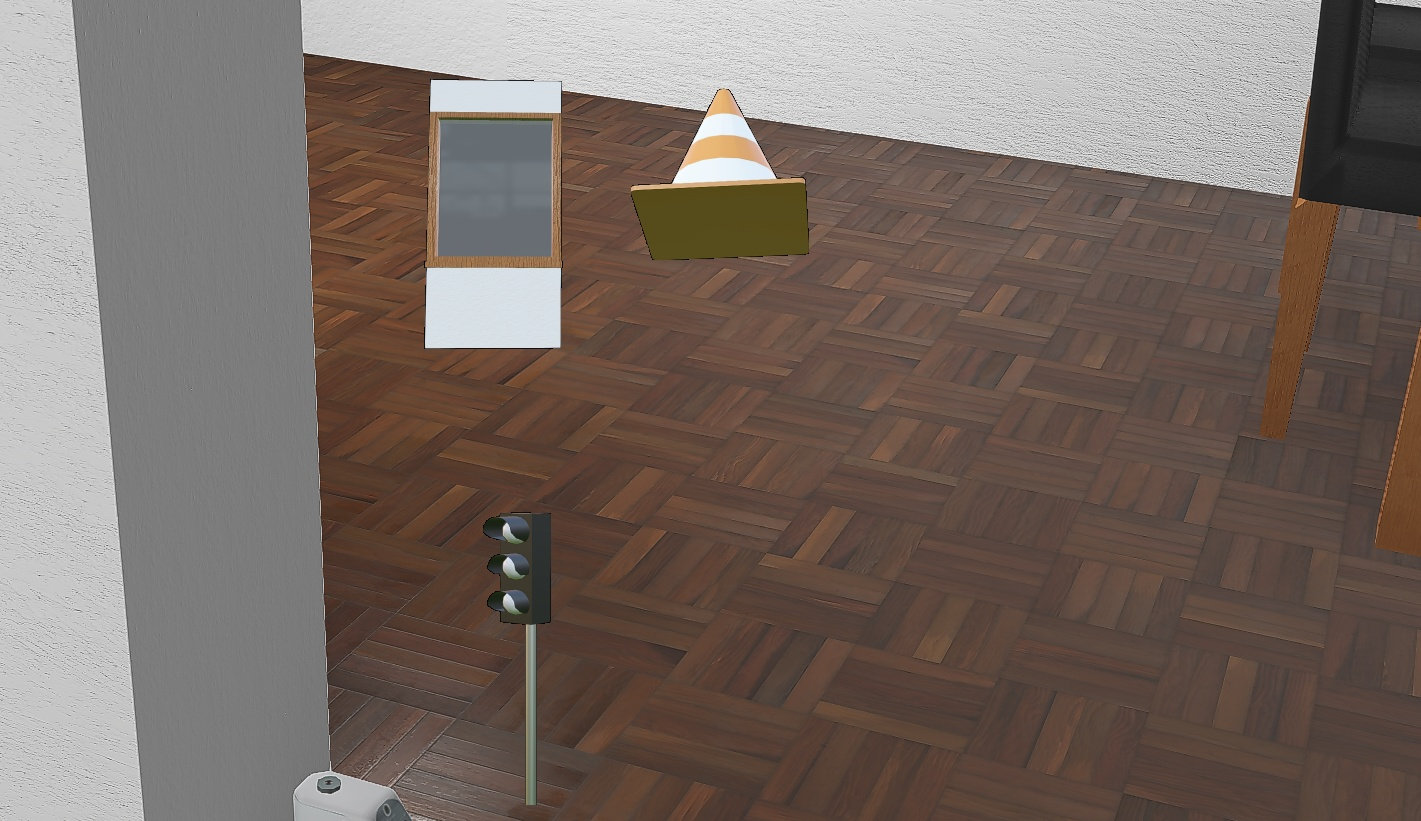cono: (630, 88, 810, 261)
semaforo: (482, 512, 552, 805)
ventana: (424, 79, 563, 349)
